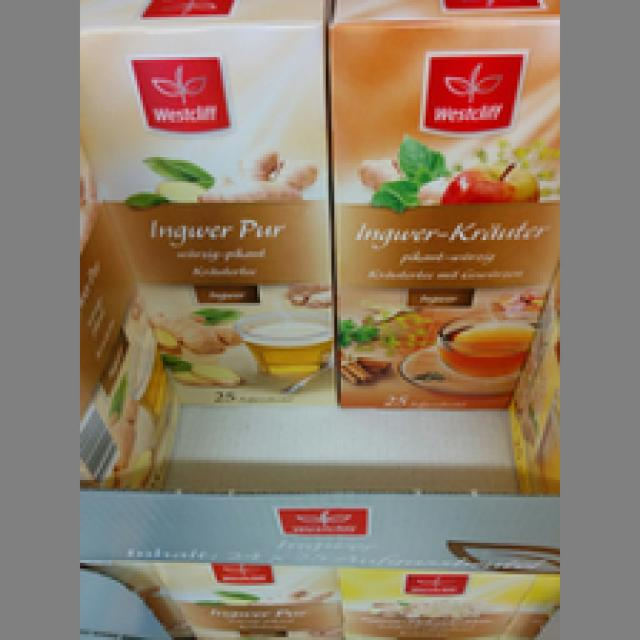groceries: (77, 0, 332, 403), (323, 0, 557, 403)
